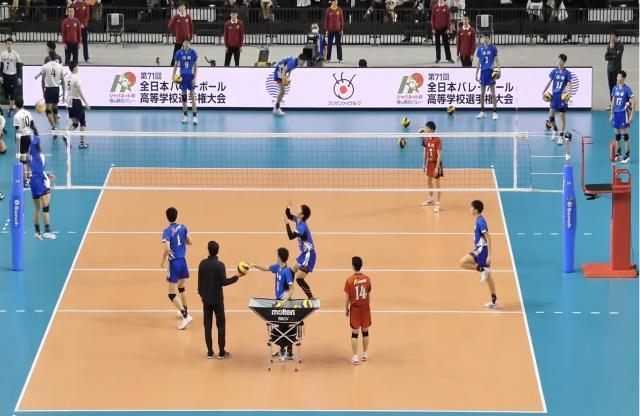spike: (20, 96, 66, 243)
